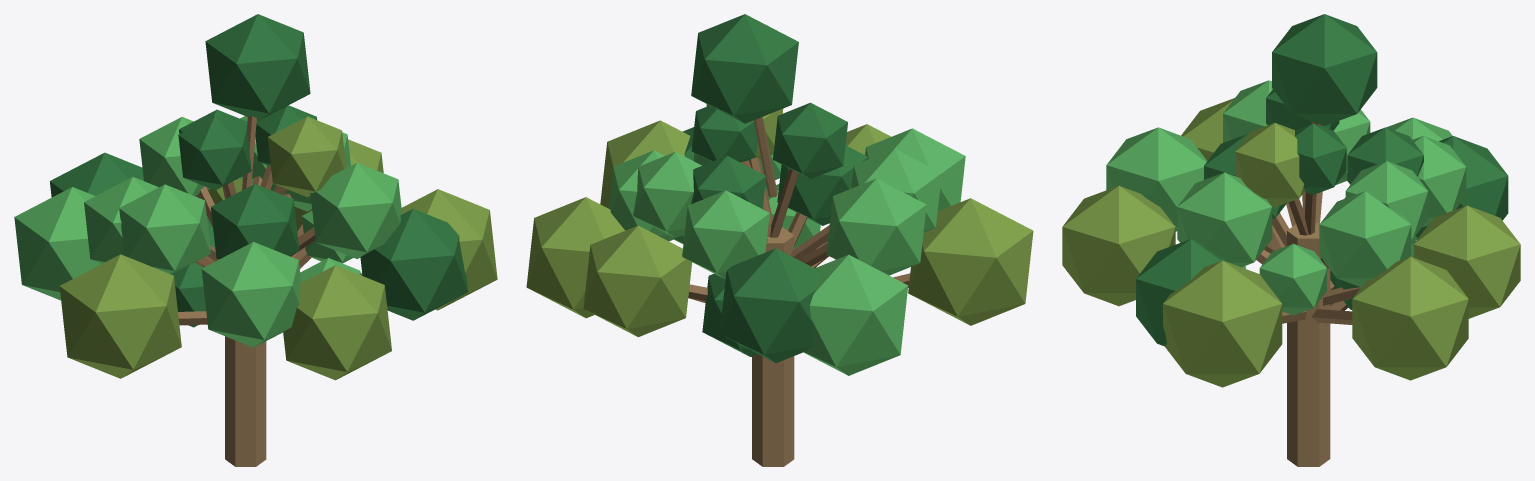
Rendered from Tree_01.glb.
3 views of the same model, side by side, from view 1: azimuth 30°, elevation 25°; view 2: azimuth 150°, elevation 25°; view 3: azimuth 270°, elevation 25° (orthographic). The views are drawn at different scales.
Visible parts, largest first — view 1: T01_Sphere_07, T01_Sphere_08, T01_Sphere_03, T01_Sphere_12, T01_Sphere_13, T01_Sphere_18, T01_Sphere_11, T01_Sphere_20, T01_Trunk, T01_Sphere_17, T01_Sphere_23, T01_Sphere_22 (+11 smaller); view 2: T01_Sphere_07, T01_Sphere_11, T01_Sphere_10, T01_Sphere_03, T01_Sphere_06, T01_Sphere_16, T01_Sphere_05, T01_Sphere_15, T01_Trunk, T01_Sphere_22, T01_Sphere_19, T01_Sphere_20 (+13 smaller); view 3: T01_Sphere_09, T01_Sphere_05, T01_Sphere_08, T01_Sphere_03, T01_Sphere_10, T01_Trunk, T01_Sphere_18, T01_Sphere_14, T01_Sphere_12, T01_Sphere_23, T01_Sphere_13, T01_Sphere_00 (+12 smaller).
Boxes of the visible parts, <box> form: T01_Sphere_07: <box>59,254,181,378</box>; T01_Sphere_08: <box>283,265,391,380</box>; T01_Sphere_03: <box>205,14,310,120</box>; T01_Sphere_12: <box>201,242,301,347</box>; T01_Sphere_13: <box>360,208,468,320</box>; T01_Sphere_18: <box>310,162,402,258</box>; T01_Sphere_11: <box>14,187,101,300</box>; T01_Sphere_20: <box>119,184,210,274</box>; T01_Trunk: <box>225,336,266,466</box>; T01_Sphere_17: <box>211,184,299,259</box>; T01_Sphere_23: <box>267,116,346,197</box>; T01_Sphere_22: <box>178,116,251,190</box>; T01_Sphere_07: <box>908,198,1033,325</box>; T01_Sphere_11: <box>803,254,908,375</box>; T01_Sphere_10: <box>583,225,691,337</box>; T01_Sphere_03: <box>691,14,798,123</box>; T01_Sphere_06: <box>719,248,821,363</box>; T01_Sphere_16: <box>826,178,926,275</box>; T01_Sphere_05: <box>526,197,625,318</box>; T01_Sphere_15: <box>682,190,769,279</box>; T01_Trunk: <box>752,227,794,466</box>; T01_Sphere_22: <box>773,102,847,179</box>; T01_Sphere_19: <box>633,152,701,237</box>; T01_Sphere_20: <box>851,149,941,232</box>; T01_Sphere_09: <box>1163,260,1282,387</box>; T01_Sphere_05: <box>1352,256,1468,380</box>; T01_Sphere_08: <box>1062,186,1175,306</box>; T01_Sphere_03: <box>1272,14,1377,125</box>; T01_Sphere_10: <box>1413,205,1520,318</box>; T01_Trunk: <box>1287,223,1330,466</box>; T01_Sphere_18: <box>1177,172,1272,267</box>; T01_Sphere_14: <box>1319,191,1411,286</box>; T01_Sphere_12: <box>1106,127,1207,231</box>; T01_Sphere_23: <box>1235,123,1305,207</box>; T01_Sphere_13: <box>1136,239,1234,346</box>; T01_Sphere_00: <box>1259,243,1326,315</box>.
Size of the model in its own units: 2.79 by 2.79 by 2.55.
